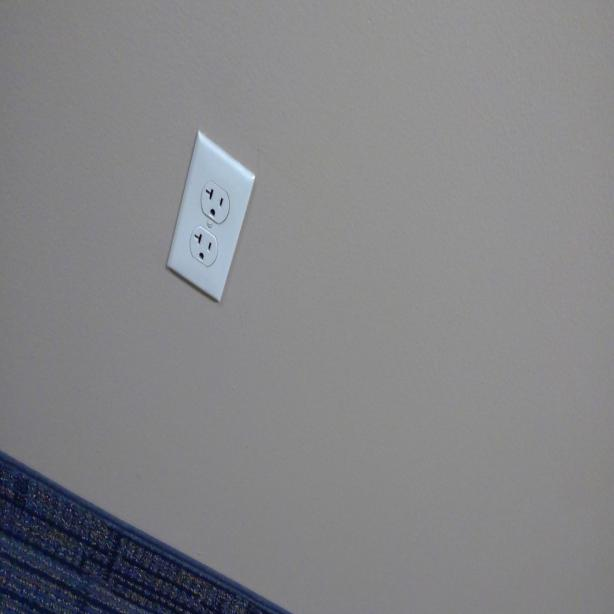typeb: (203, 180, 228, 220), (191, 228, 213, 264)
